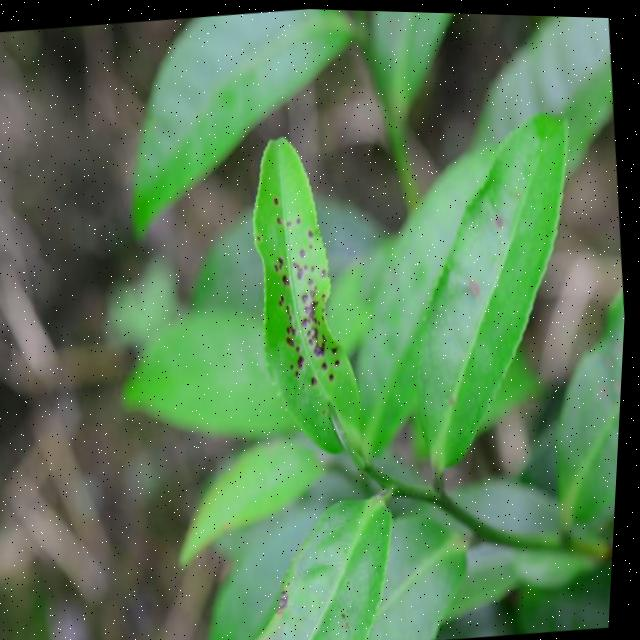Tea red scab: (261, 186, 357, 380)
